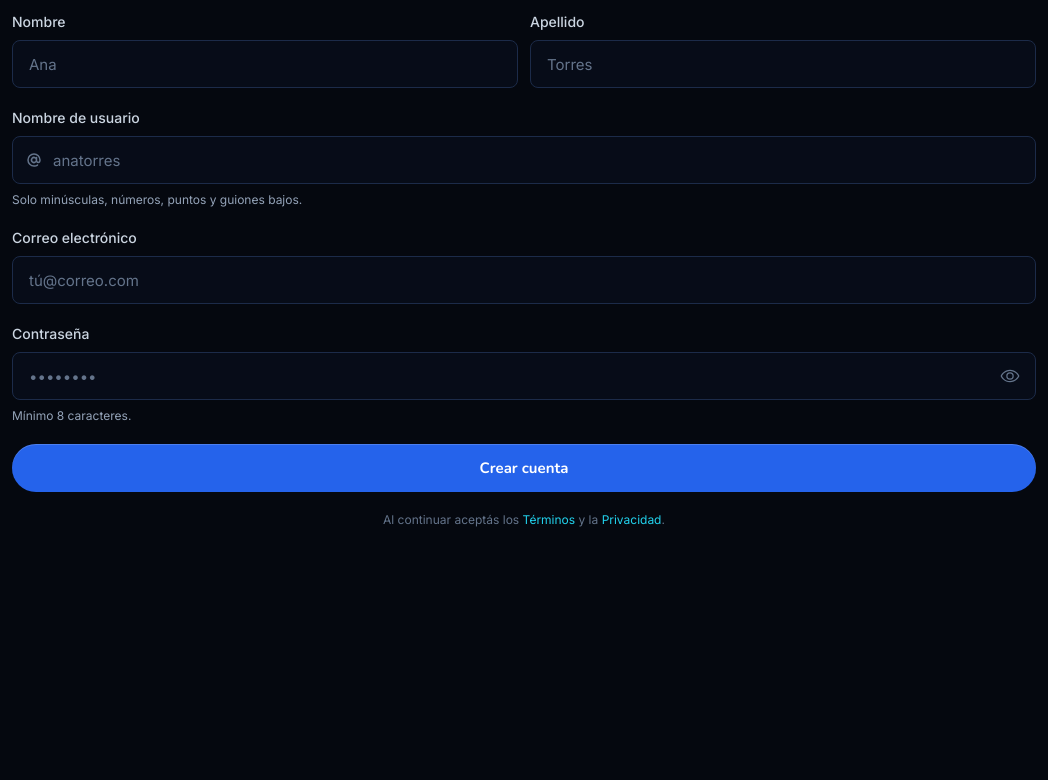
Test case: RegisterForm › explica el error al salir del campo y lo saca apenas se corrige
The image size is (1048, 780).
Type "ana@" into the field labelled "Correo electrónico" at (524, 280), box [12,256,1036,304]
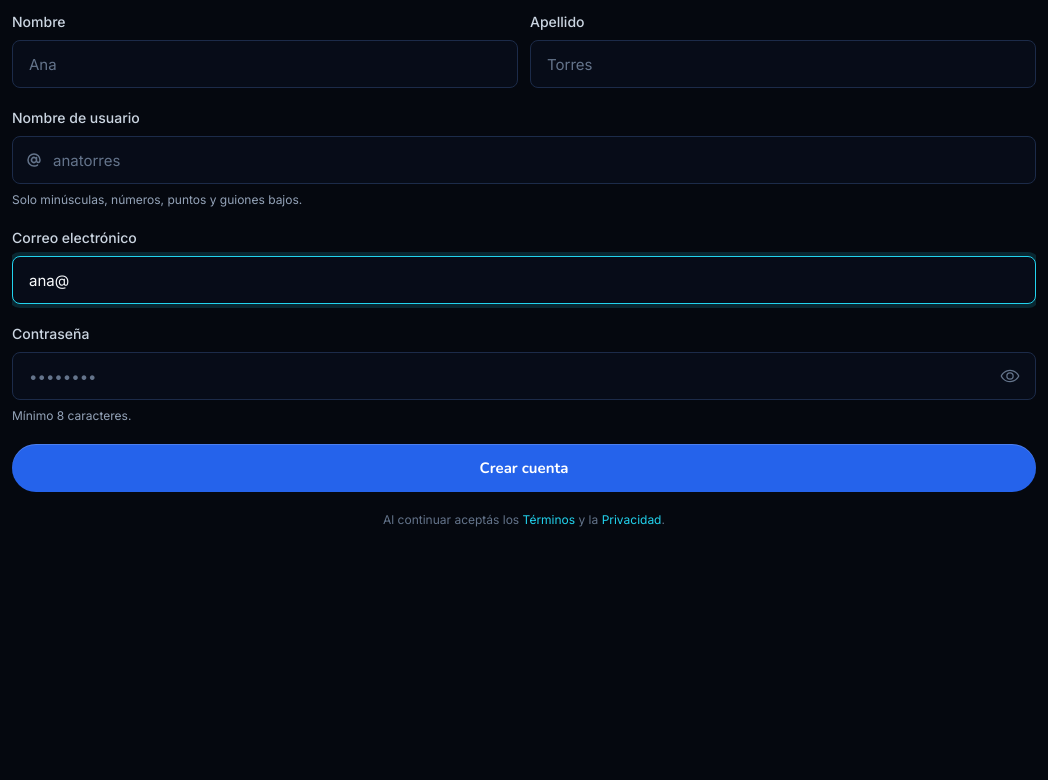
Press Tab
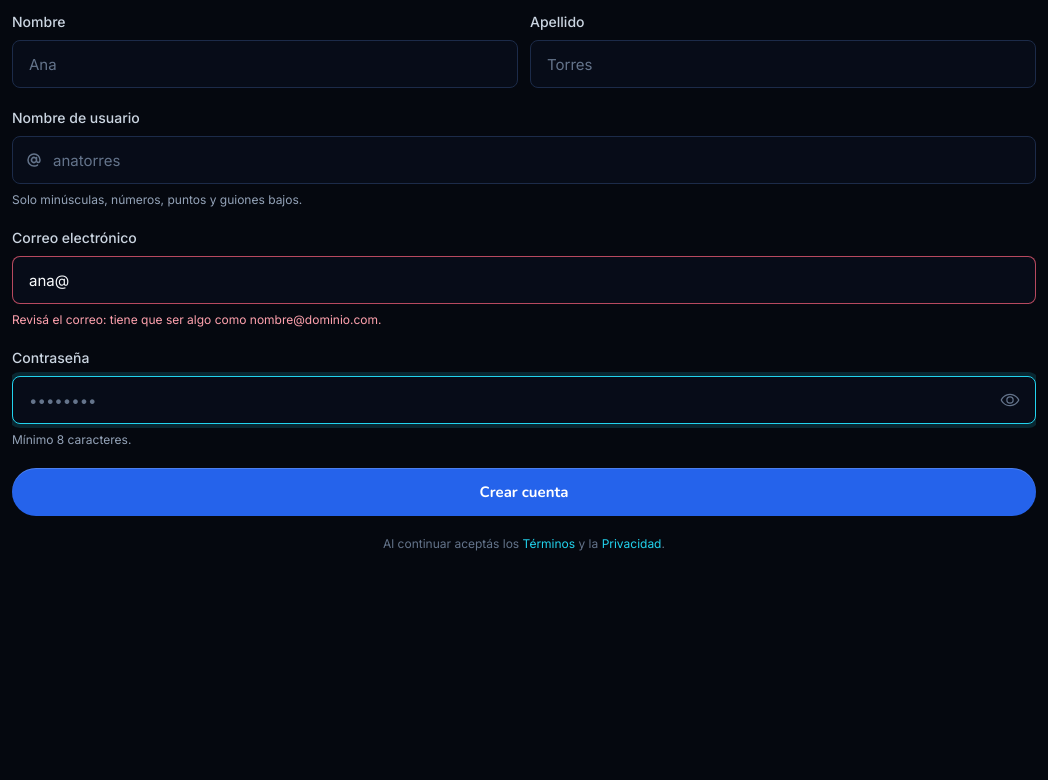
Expected: the text "Revisá el correo" is shown, [12,312,382,327]
Type "example.com" into the field labelled "Correo electrónico" at (524, 280), box [12,256,1036,304]
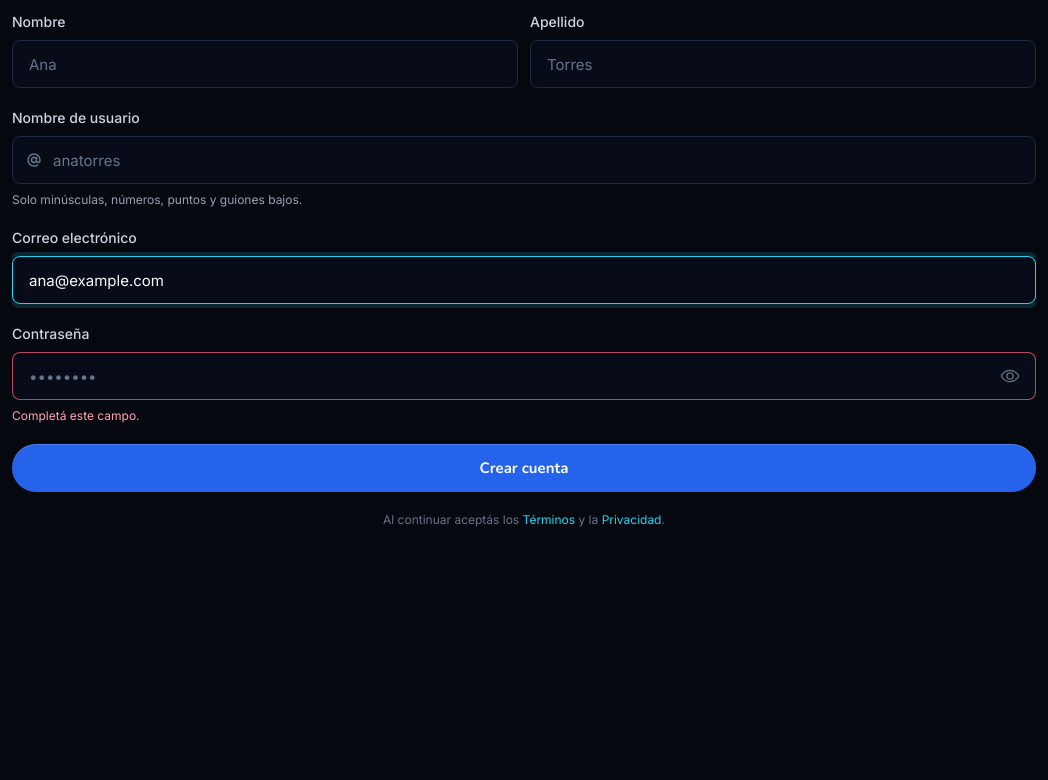
Expected: the text "Revisá el correo" is gone
